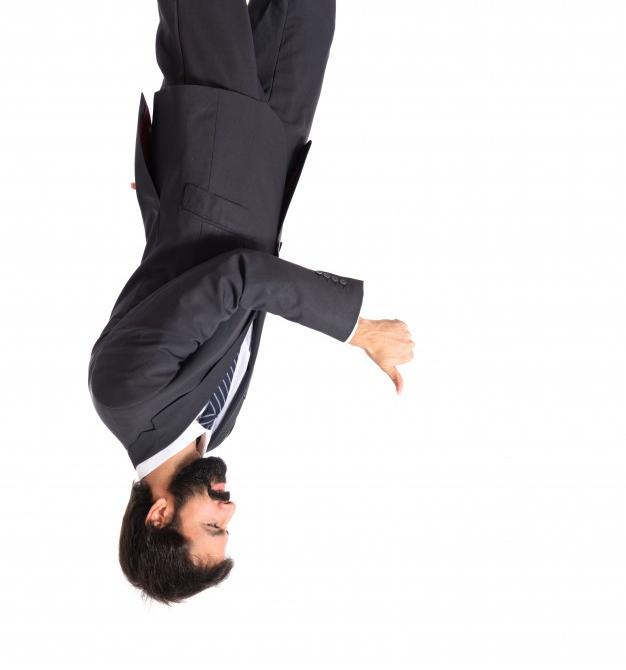thumbsdown: (380, 319, 415, 396)
